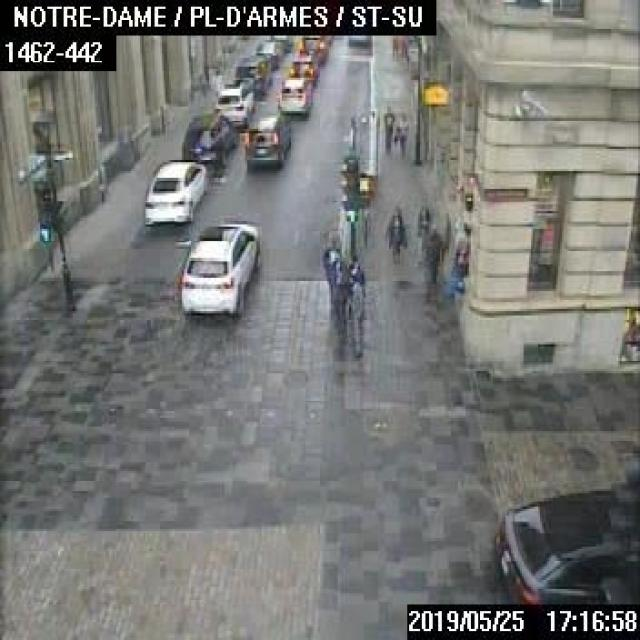pedestrian: (334, 245, 350, 327), (384, 205, 406, 262), (320, 237, 338, 306), (348, 272, 363, 353), (422, 219, 440, 286), (442, 212, 454, 286), (415, 195, 429, 251), (380, 104, 393, 158), (392, 110, 406, 158), (398, 33, 407, 59), (390, 34, 398, 58)
vehicle: (491, 482, 638, 602), (176, 218, 258, 318), (140, 160, 203, 224), (180, 110, 237, 171), (243, 112, 292, 166), (235, 52, 273, 97), (278, 74, 314, 114), (216, 84, 252, 124), (285, 48, 318, 82), (254, 40, 282, 68), (299, 34, 326, 62), (345, 32, 373, 49), (268, 33, 292, 51)
